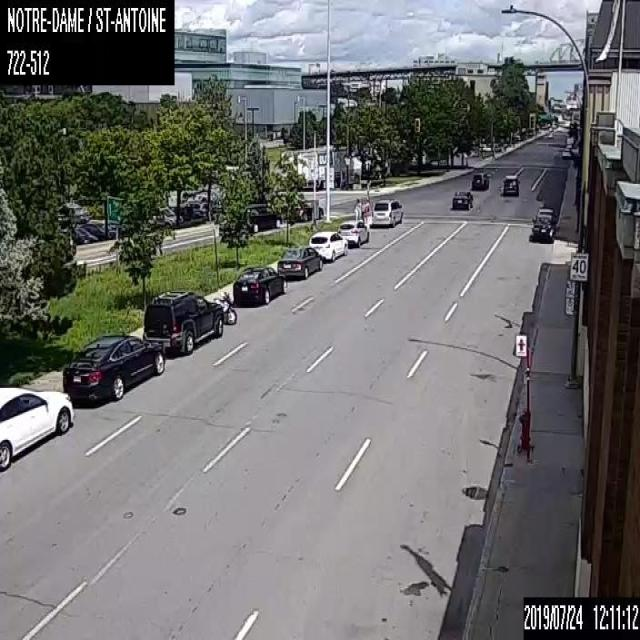pedestrian: (364, 198, 372, 223), (355, 197, 361, 223), (360, 200, 366, 225)
vehicle: (62, 333, 165, 401), (0, 384, 75, 473), (142, 289, 223, 354), (232, 265, 286, 303), (277, 245, 322, 277), (308, 230, 348, 260), (246, 201, 282, 232), (372, 197, 403, 226), (209, 291, 237, 323), (337, 220, 369, 247), (294, 201, 322, 223), (531, 216, 554, 241), (452, 189, 472, 210), (501, 173, 518, 195), (471, 170, 488, 190), (537, 207, 553, 220)
